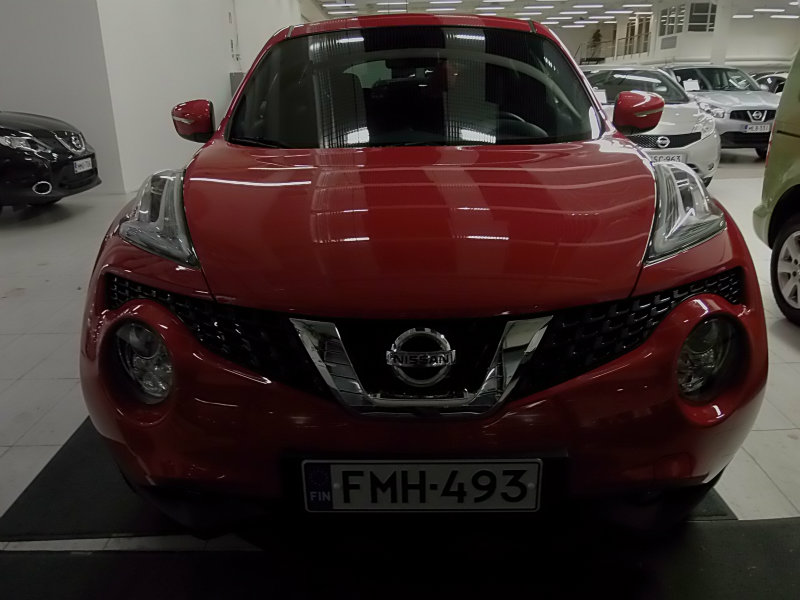license: (301, 459, 542, 516)
